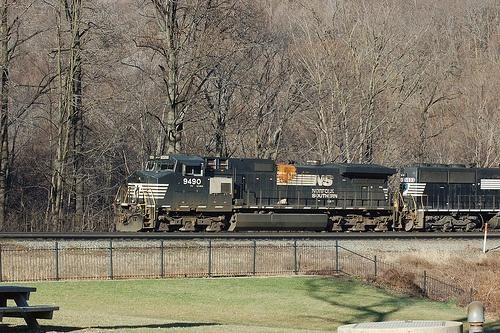train: (112, 150, 500, 237)
